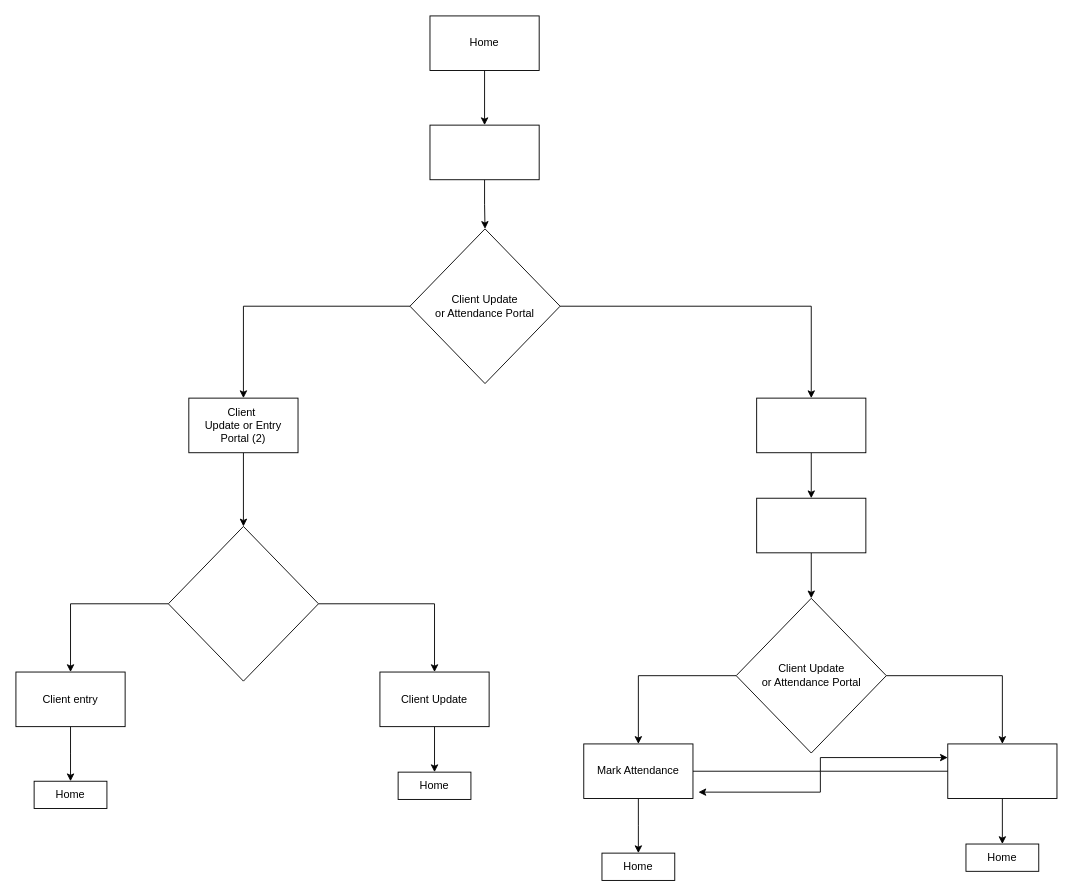
Some shapes in this 1073 by 896 pixel diagram are drawn without their labels. The centre of each missing label's shape, as x and y in pixels:
Attendance Portal (4): the point at 811,525
Chose Class Portal (3): the point at 811,425
Chose Option: the point at 242,603
Opens Entry Page (1): the point at 484,152
View Client Info: the point at 1002,771
